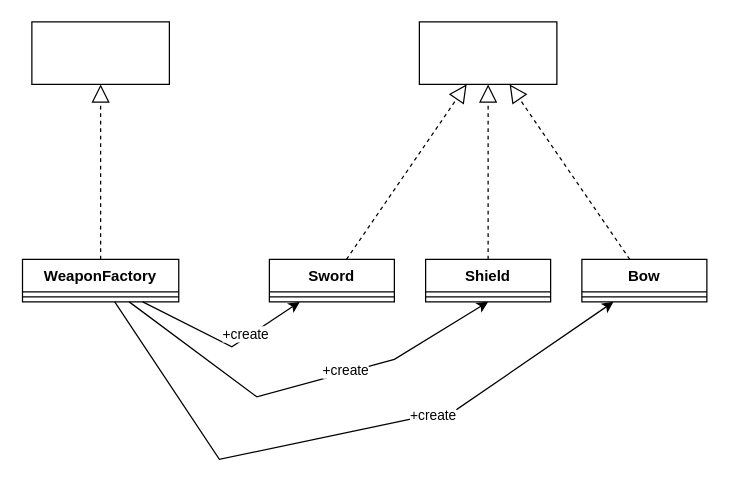
The diagram is 729 pixels wide and 491 high, and some of its shapes have lost their labels. The centre of each missing label's shape, as x and y in pixels:
"«interface» Factory" belongs at point 100,52.
"«interface» Object" belongs at point 487,52.
